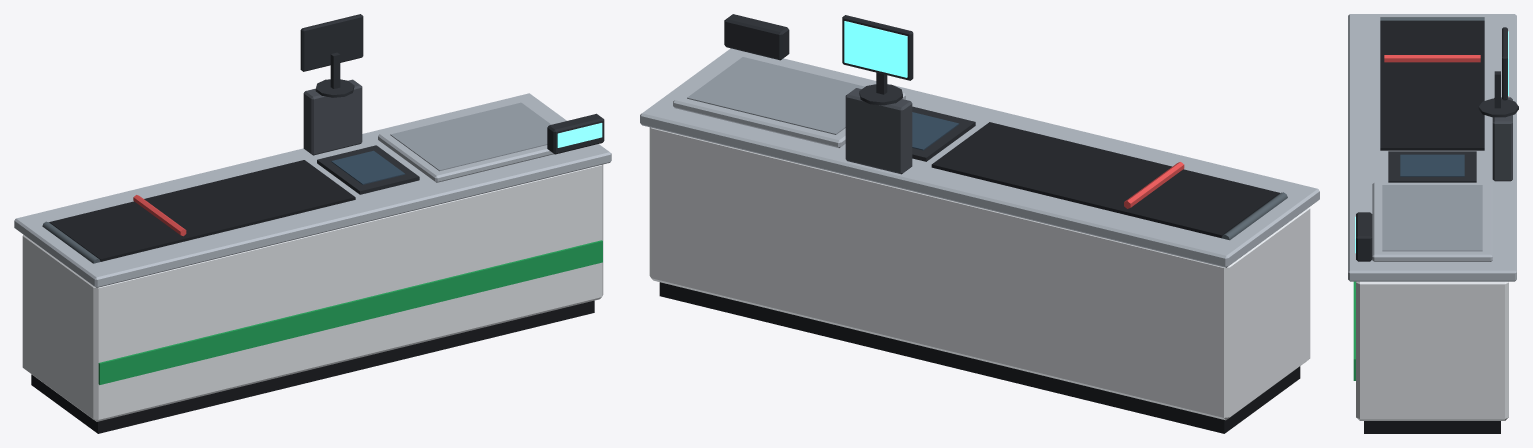
The model's file is checkout_counter.glb.
The picture shows the model from 3 angles, left to right: view 1: azimuth 30°, elevation 25°; view 2: azimuth 150°, elevation 25°; view 3: azimuth 270°, elevation 25°; orthographic projection. The views are drawn at different scales.
Visible parts, largest first — view 1: checkout_counter; view 2: checkout_counter; view 3: checkout_counter.
Part boxes in pixels (<box>): checkout_counter: <box>14,14,611,433</box>; checkout_counter: <box>640,14,1319,433</box>; checkout_counter: <box>1348,14,1518,433</box>.
Bounding box in the file's own units: 3.04 × 1.62 × 0.85.
